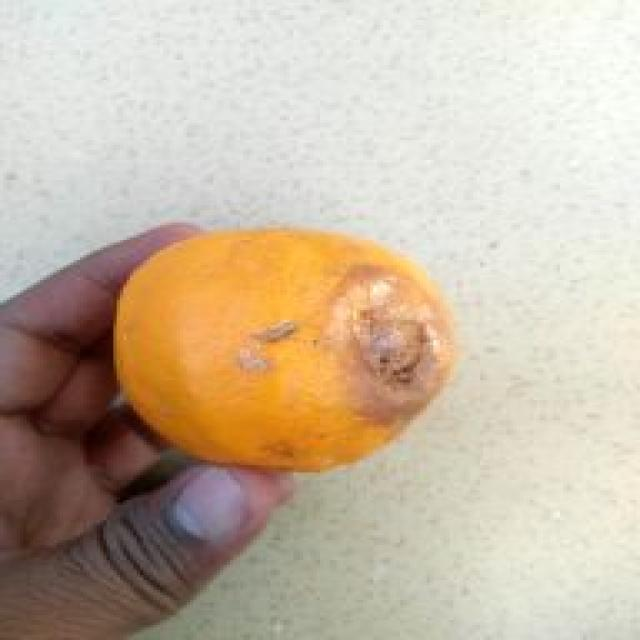Organik: (105, 225, 475, 470)
